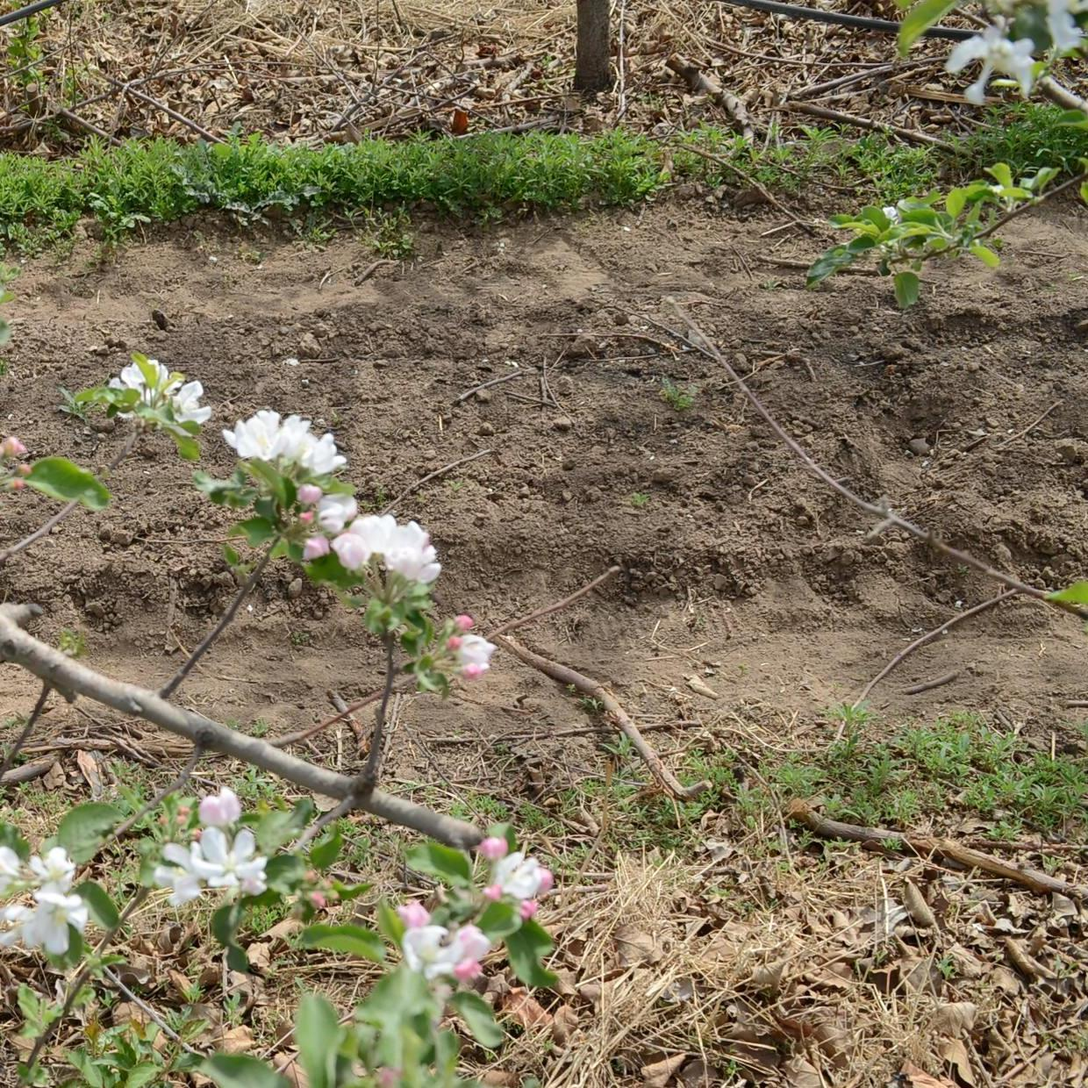apple_flower: (225, 407, 444, 583), (155, 785, 269, 905), (0, 844, 90, 956), (109, 351, 213, 433), (950, 18, 1049, 99), (398, 901, 492, 979), (480, 834, 555, 917), (448, 613, 497, 679)
